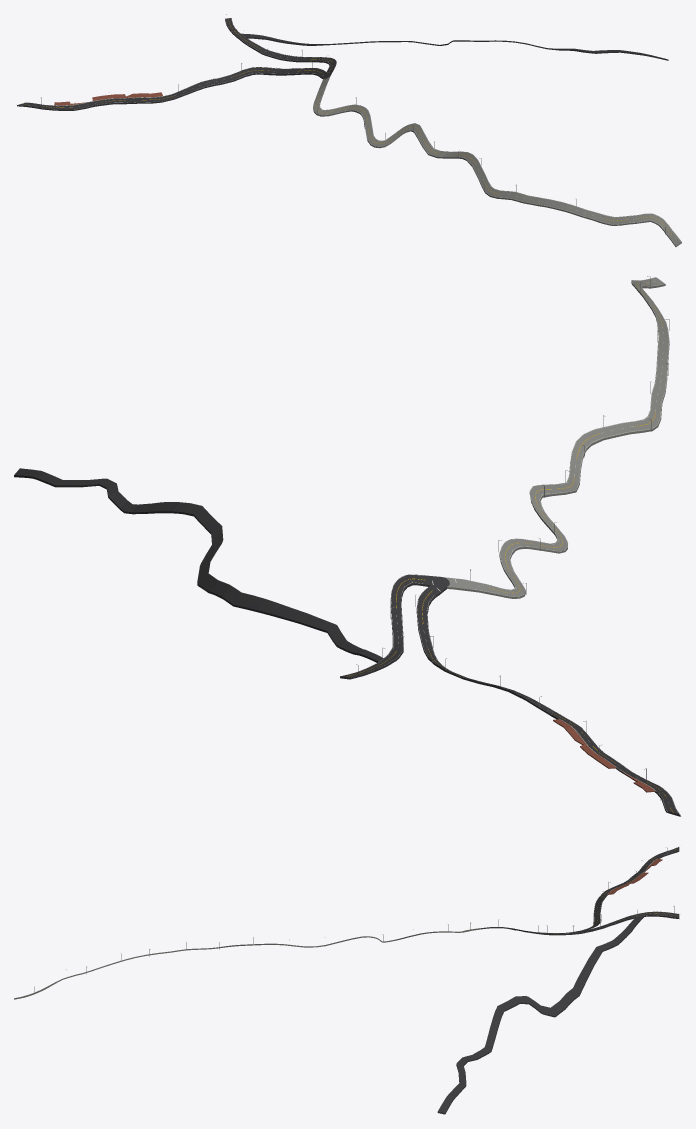
3 views of the same model, one above another, from view 1: azimuth 30°, elevation 25°; view 2: azimuth 150°, elevation 25°; view 3: azimuth 270°, elevation 25° (orthographic). The views are drawn at different scales.
Bounding box in the file's own units: 555 × 43.92 × 585.
